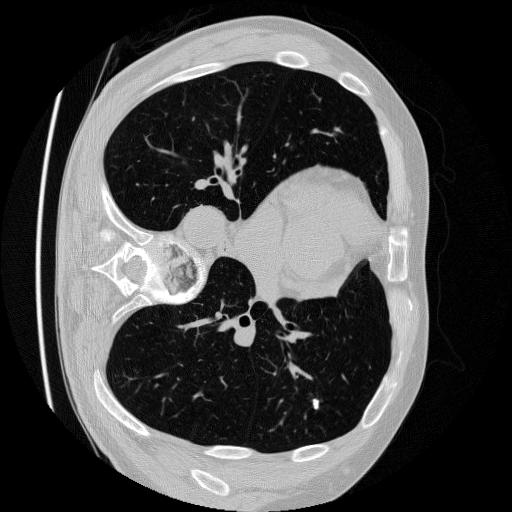nodule: (310, 398, 325, 413)
